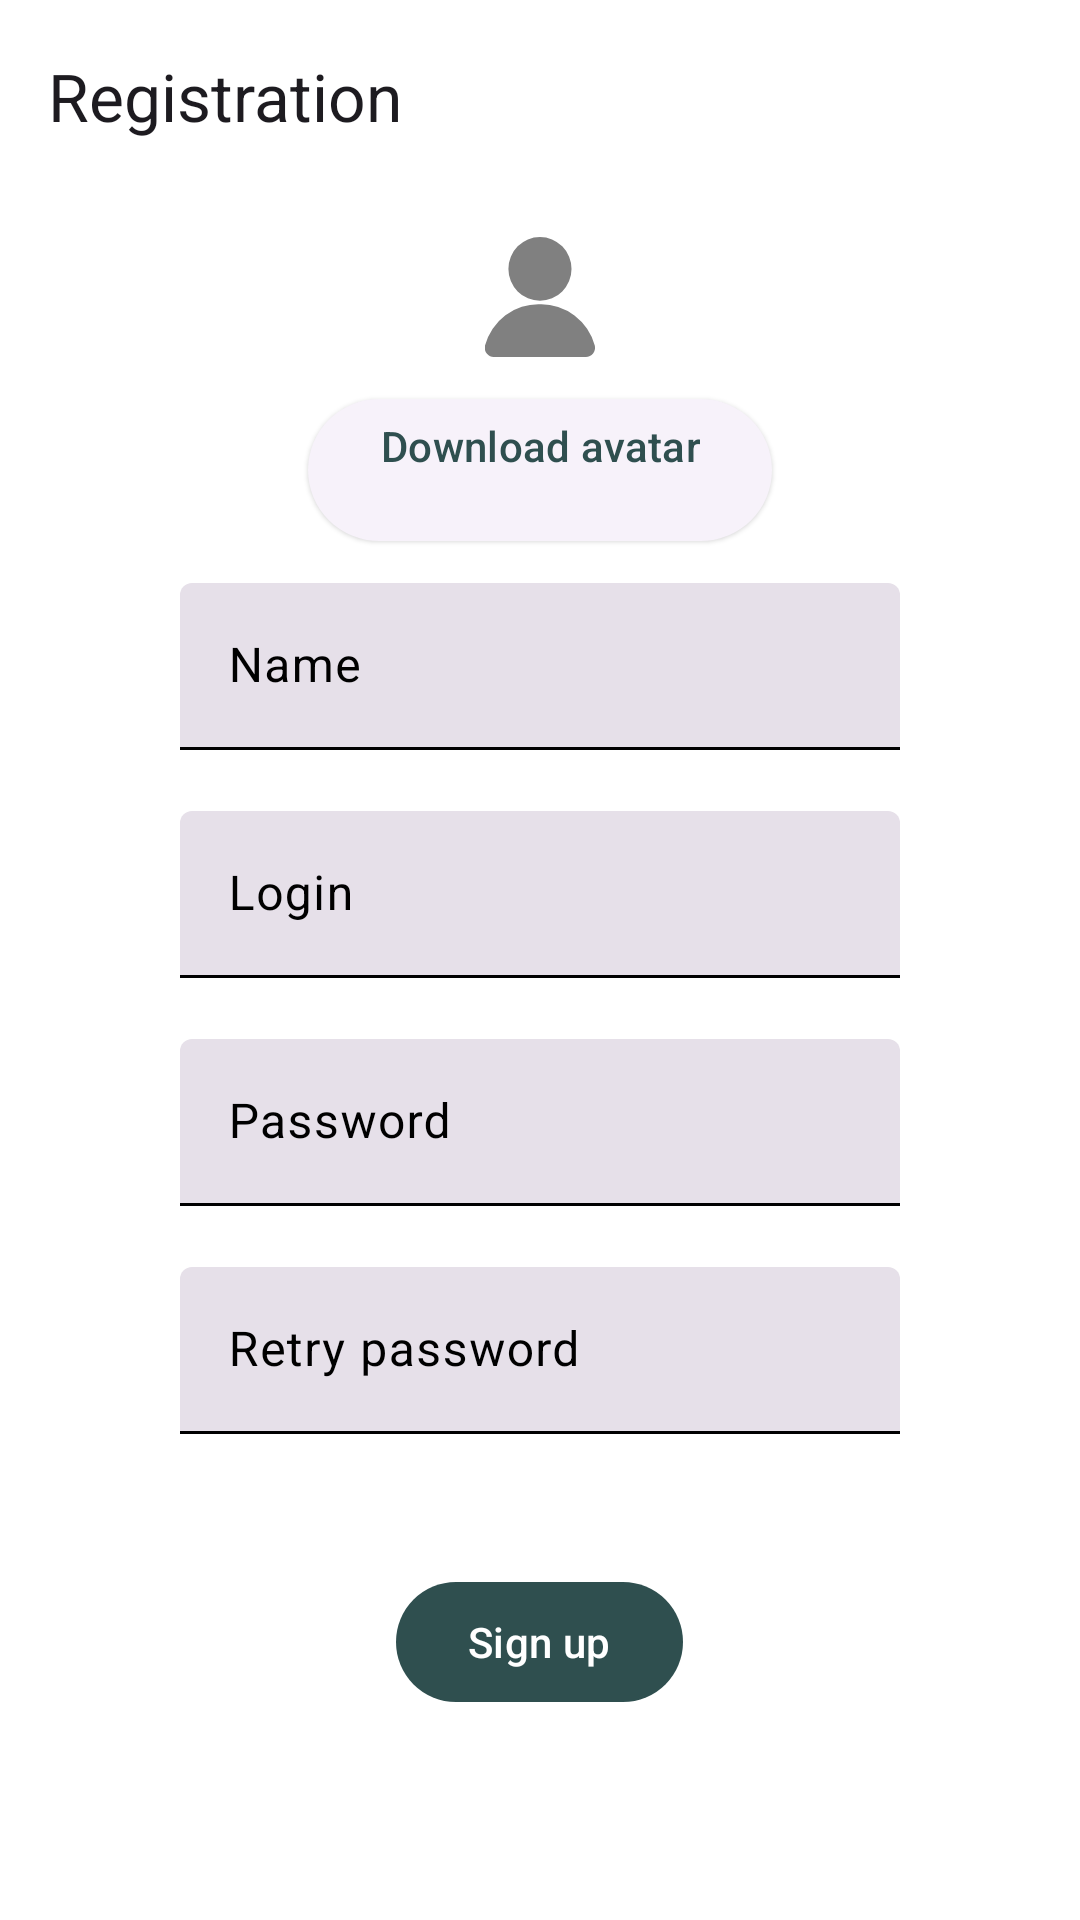

Locate icon controls on the screen. Image size 1080w x 1920h, boxes as (x1, y1, x2, y2).
user by anna: (485, 237, 595, 357)
